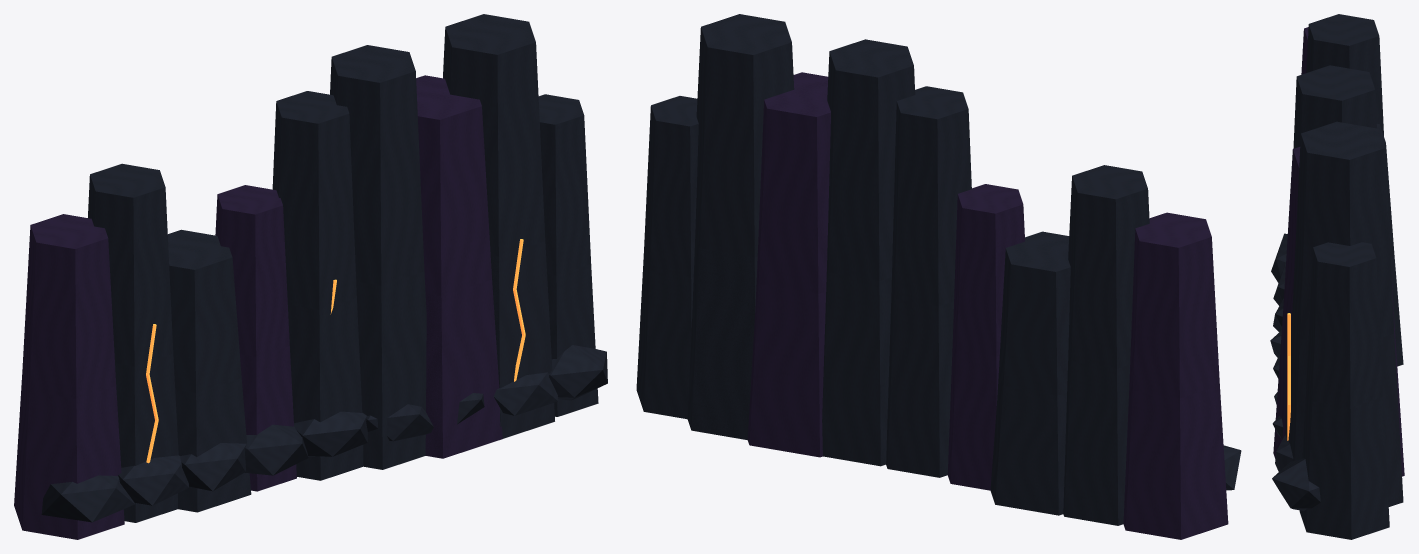
Rendered from CanyonWall_12m.fbx.
The picture shows the model from 3 angles, left to right: view 1: azimuth 30°, elevation 25°; view 2: azimuth 150°, elevation 25°; view 3: azimuth 270°, elevation 25°; orthographic projection. The views are drawn at different scales.
Visible parts, largest first — view 1: SM_CanyonWall_12m; view 2: SM_CanyonWall_12m; view 3: SM_CanyonWall_12m.
Boxes of the visible parts, bbox=[...] form: SM_CanyonWall_12m: bbox=[14, 14, 607, 539]; SM_CanyonWall_12m: bbox=[636, 14, 1241, 539]; SM_CanyonWall_12m: bbox=[1270, 14, 1404, 539].
Size of the model in its own units: 1390 by 299 by 869.
Materials: 1 (1 with a texture image).
